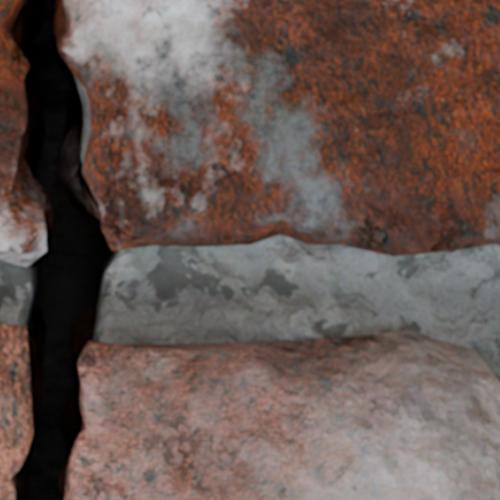broken_brick: (64, 0, 499, 256), (71, 330, 499, 499), (0, 29, 45, 268), (0, 324, 31, 499), (0, 0, 11, 23)
crack: (0, 0, 120, 499)
